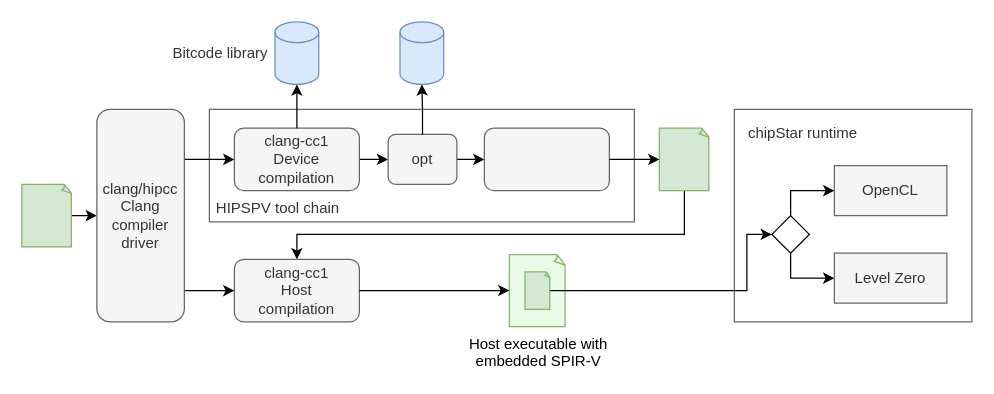
The diagram is 994 pixels wide and 394 high, and some of its shapes have lost their labels. Each missing label, with the centre of its shape:
"HIP source" belongs at (46,215).
"HIP-SPIR-V pass plugin" belongs at (421,52).
"llvm-spirv LLVM-SPIR-V translator" belongs at (546,159).
"SPIR-V IR" belongs at (683,159).
